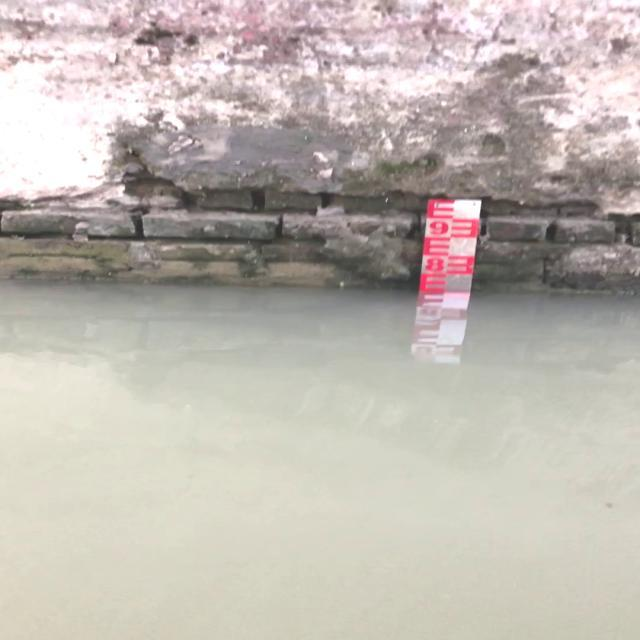ruler: (414, 188, 485, 300)
value: (426, 216, 454, 241), (422, 252, 448, 276)
